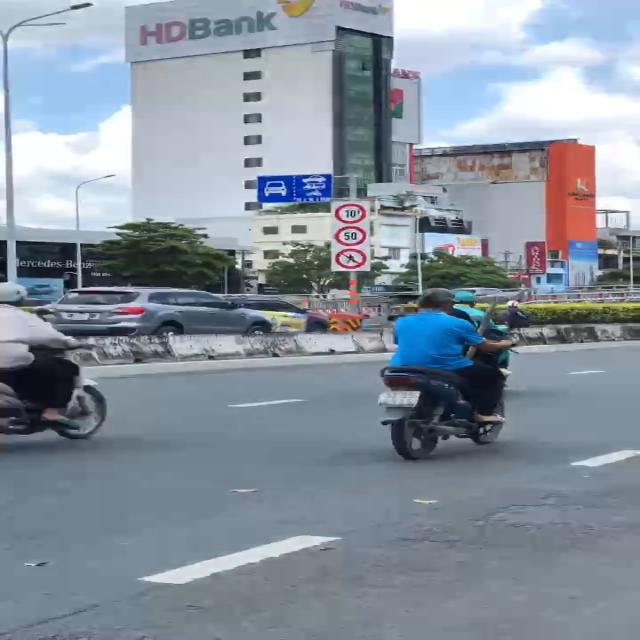Bien bao cam nguoi di bo: (335, 247, 371, 271)
Bien bao toc do toi da cho phep: (333, 225, 369, 248)
